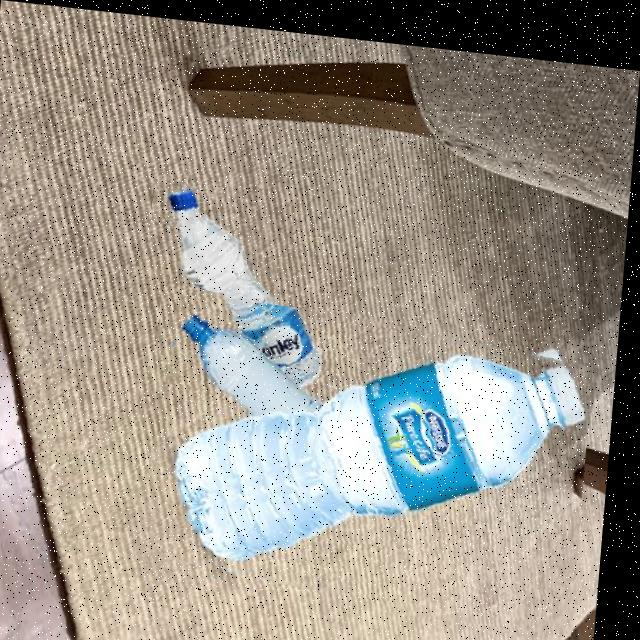litter: (145, 288, 599, 622), (152, 175, 212, 228)
